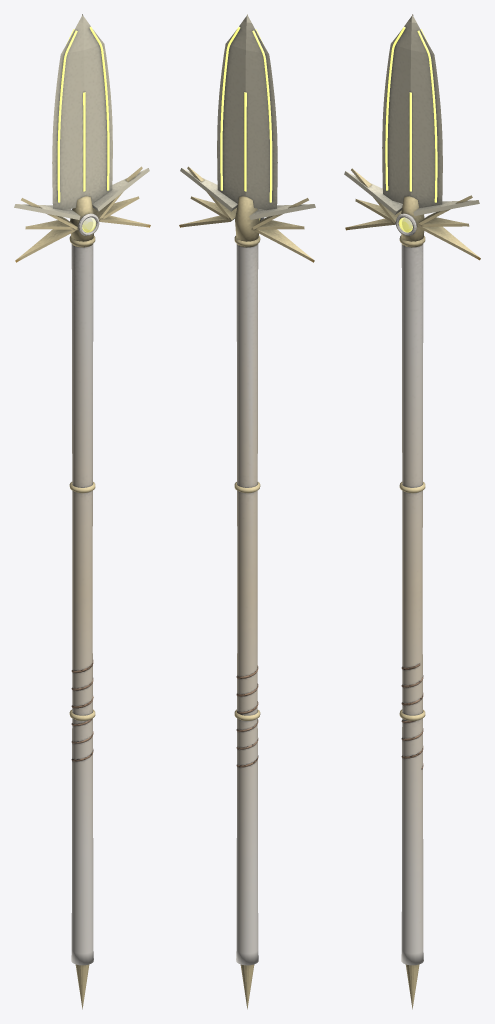
File: arma_lend_lanca_celestial.glb
3 views of the same model, side by side, from view 1: azimuth 30°, elevation 25°; view 2: azimuth 150°, elevation 25°; view 3: azimuth 330°, elevation 25° (orthographic).
Parts seen in each view (by area): view 1: arma_lend_lanca_celestial, ponta_gume-1, ponta_gume1; view 2: arma_lend_lanca_celestial, ponta_gume-1b, ponta_gume1b; view 3: arma_lend_lanca_celestial, ponta_gume1, ponta_gume-1.
Part boxes in pixels (<box>): arma_lend_lanca_celestial: <box>14,14,150,1009</box>; ponta_gume-1: <box>57,30,77,202</box>; ponta_gume1: <box>89,26,109,190</box>; arma_lend_lanca_celestial: <box>179,14,315,1009</box>; ponta_gume-1b: <box>252,30,272,202</box>; ponta_gume1b: <box>220,26,240,190</box>; arma_lend_lanca_celestial: <box>344,14,480,1009</box>; ponta_gume1: <box>417,30,437,202</box>; ponta_gume-1: <box>385,26,405,190</box>.
Bounding box in the file's own units: 0.3772 × 2.62 × 0.0707.
8 materials, 1 textured.
